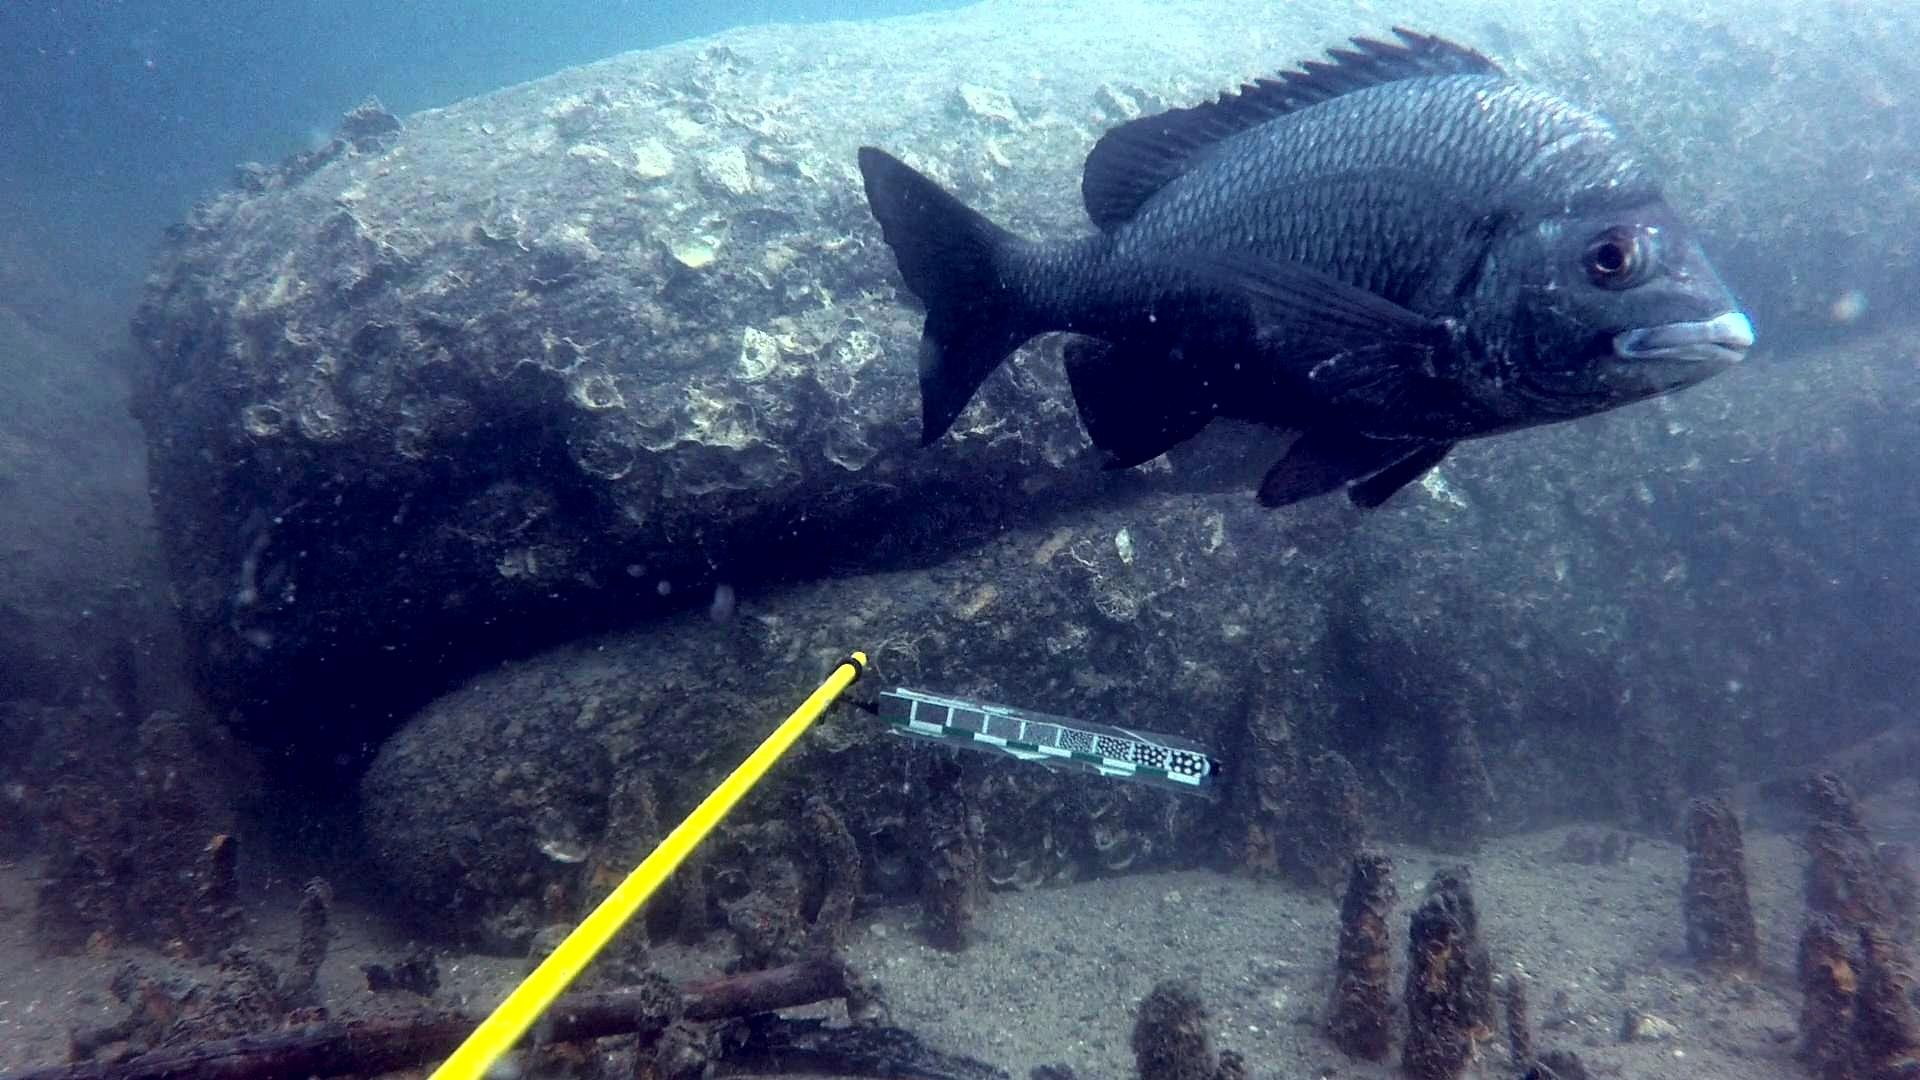acanthopagrus palmaris: (840, 24, 1754, 522)
